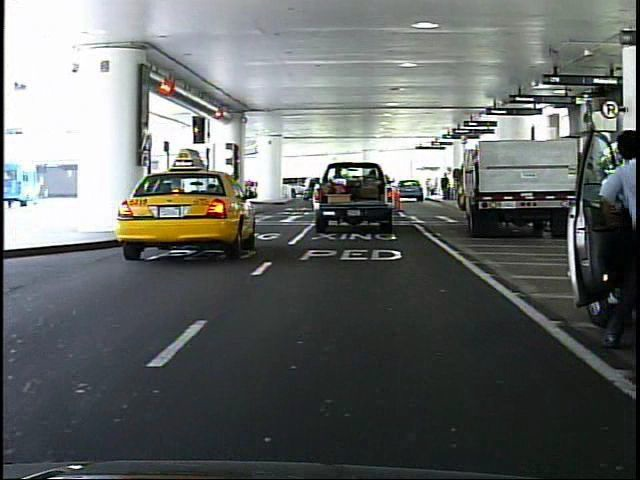person: (579, 120, 640, 340), (202, 167, 221, 214)
